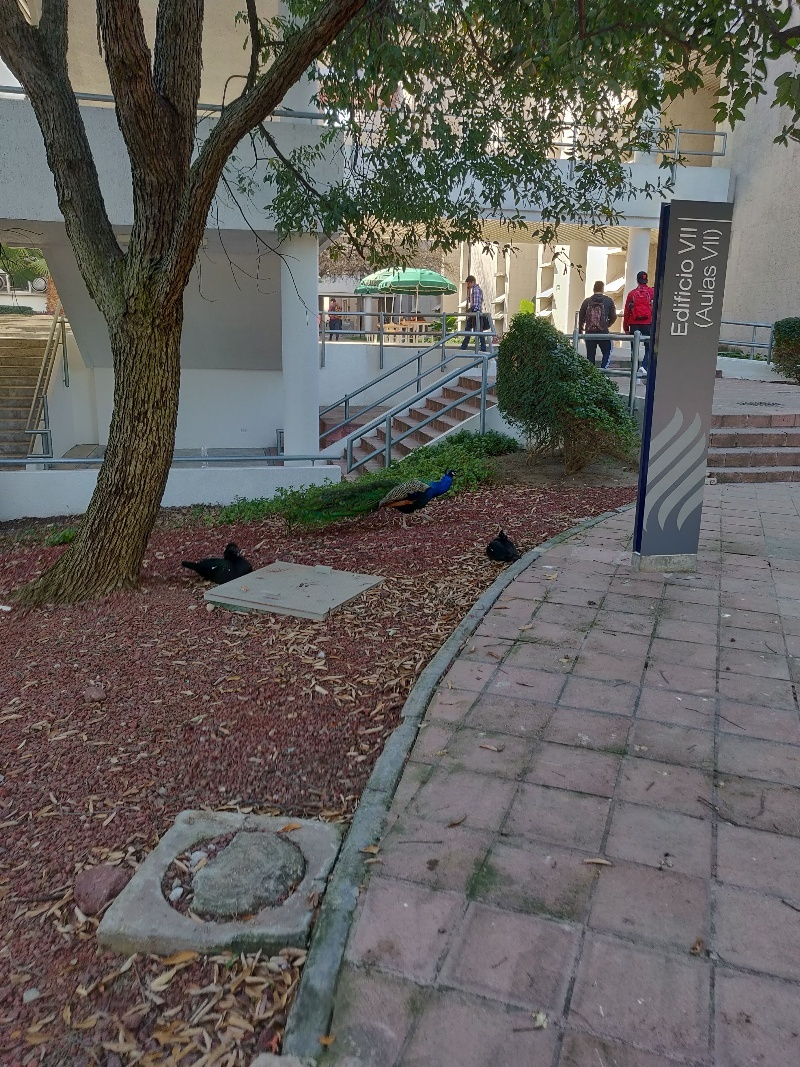pato: (183, 542, 253, 585), (486, 527, 519, 568)
pavoreal: (377, 468, 462, 523)
